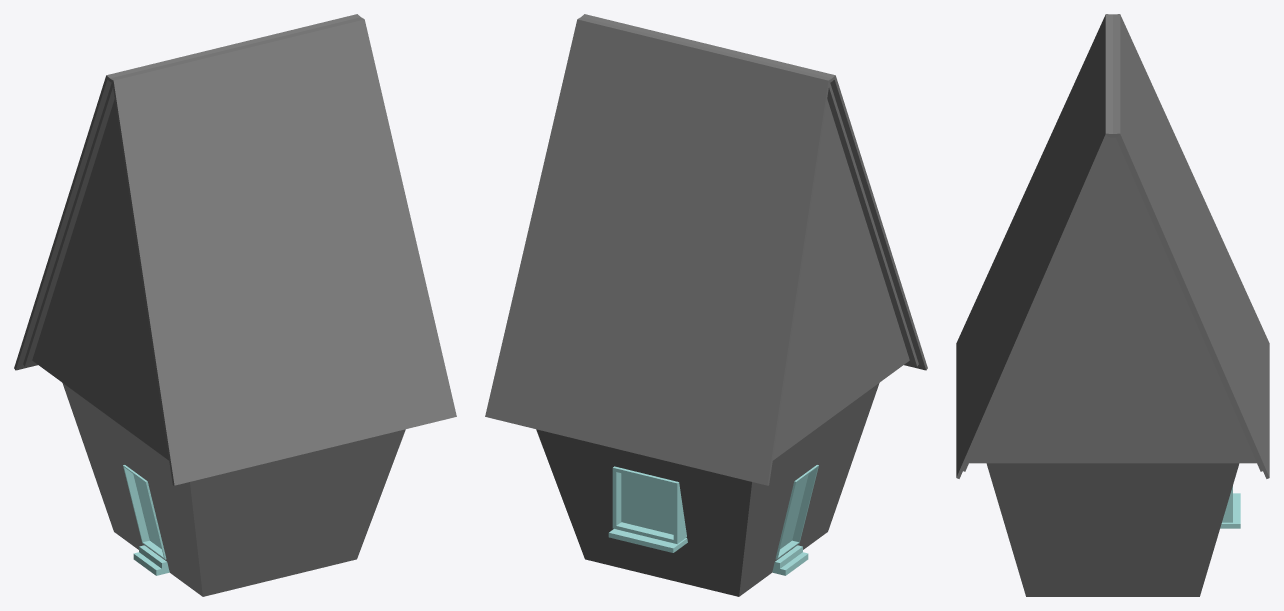
The model's file is big-house-model.gltf.
The picture shows the model from 3 angles, left to right: view 1: azimuth 30°, elevation 25°; view 2: azimuth 150°, elevation 25°; view 3: azimuth 270°, elevation 25°; orthographic projection. The views are drawn at different scales.
Parts seen in each view (by area): view 1: House_Top-Body, House_base, Door; view 2: House_Top-Body, House_base, Window, Door, Window_Flower-Support; view 3: House_Top-Body, House_base.
Part boxes in pixels (x1,y1,x2,y2): House_Top-Body: (14,14,456,485); House_base: (62,383,405,596); Door: (123,465,166,559); House_Top-Body: (485,14,927,485); House_base: (536,383,879,596); Window: (612,466,686,544); Door: (775,465,818,559); Window_Flower-Support: (608,529,687,552); House_Top-Body: (956,14,1269,478); House_base: (986,463,1239,596).
Size of the model in its own units: 1.83 by 3.09 by 1.8.
